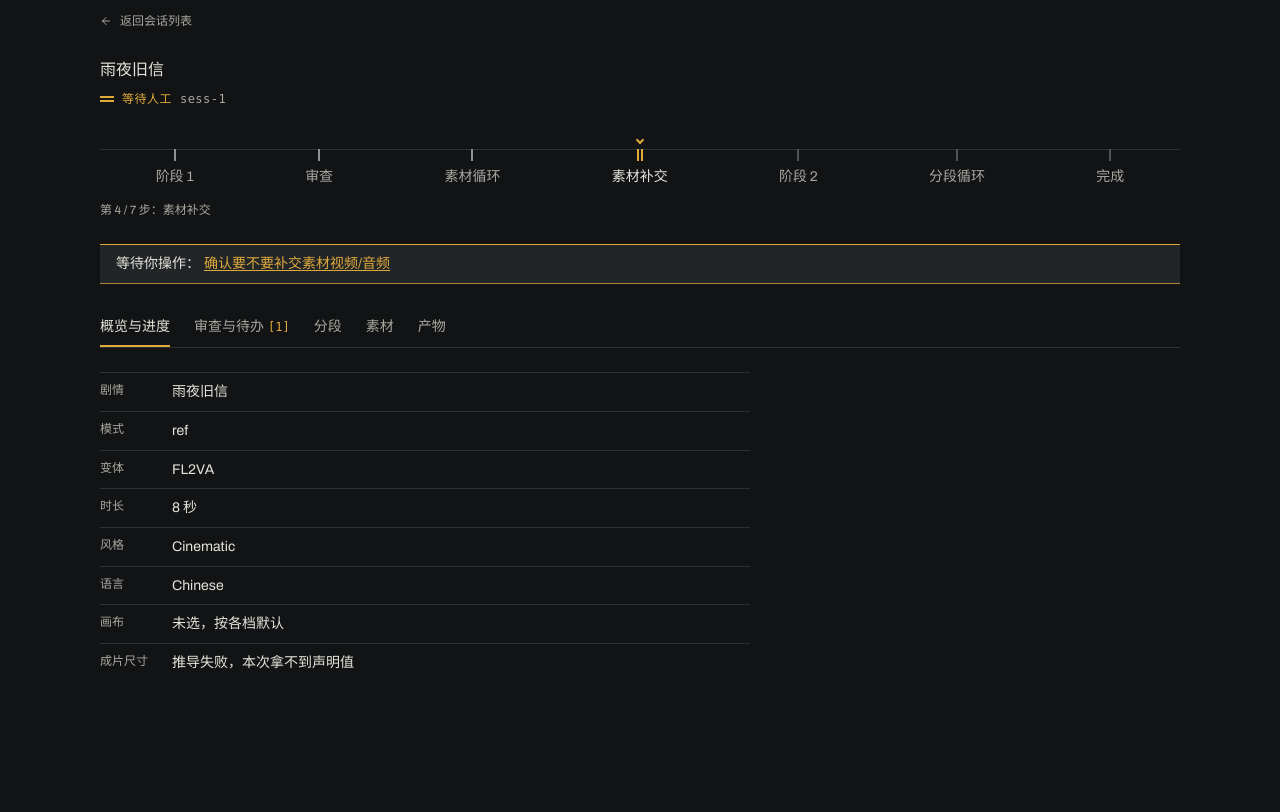
Test: SessionDetailView 指路（2026-11-21 layout） › 「等待你操作」是可点的按钮，点了跳到真正挂着那张卡的分区
// 综合卡挂在「审查与待办」：点一下就该切过去，而不是只把话说完。
Click the button "确认要不要补交素材视频/音频": (297, 264) [204,253,390,275]
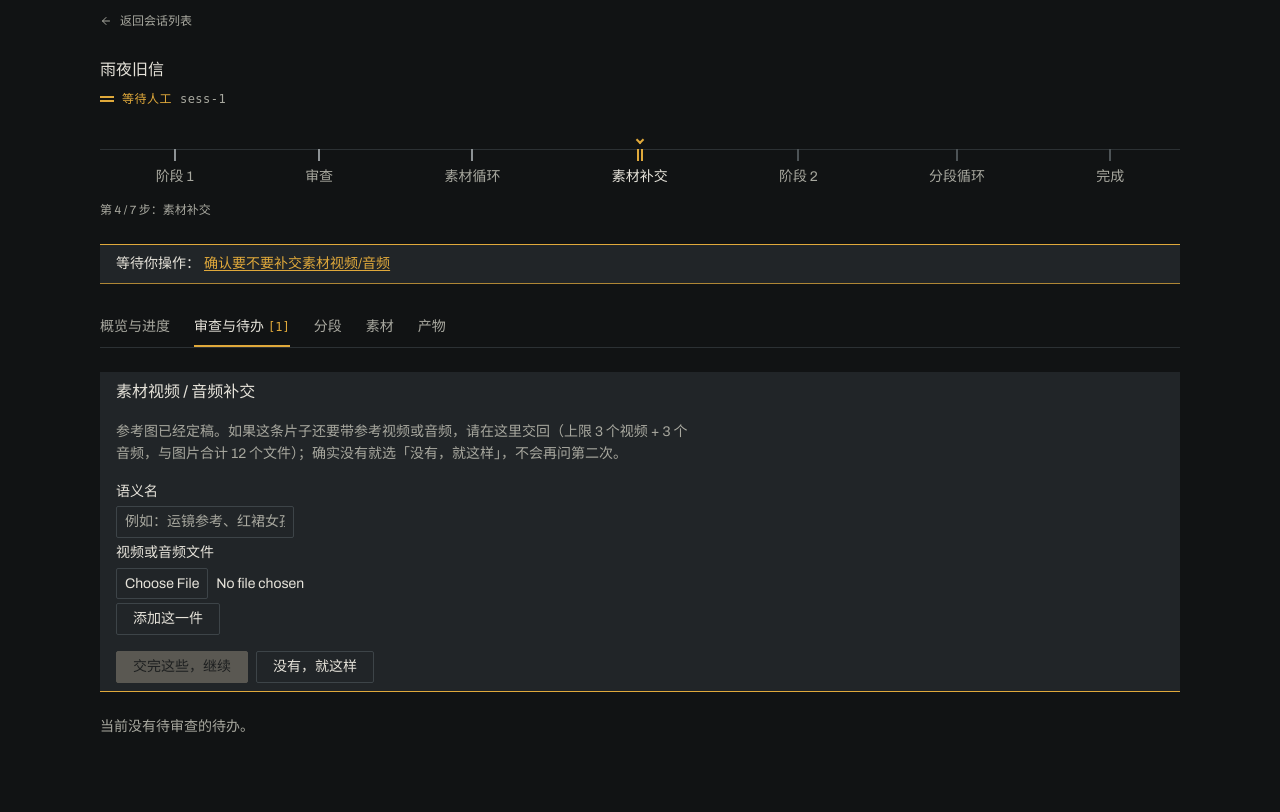
Expected: the panel with id "workbench-panel-review" is shown, [100,372,1180,738]
